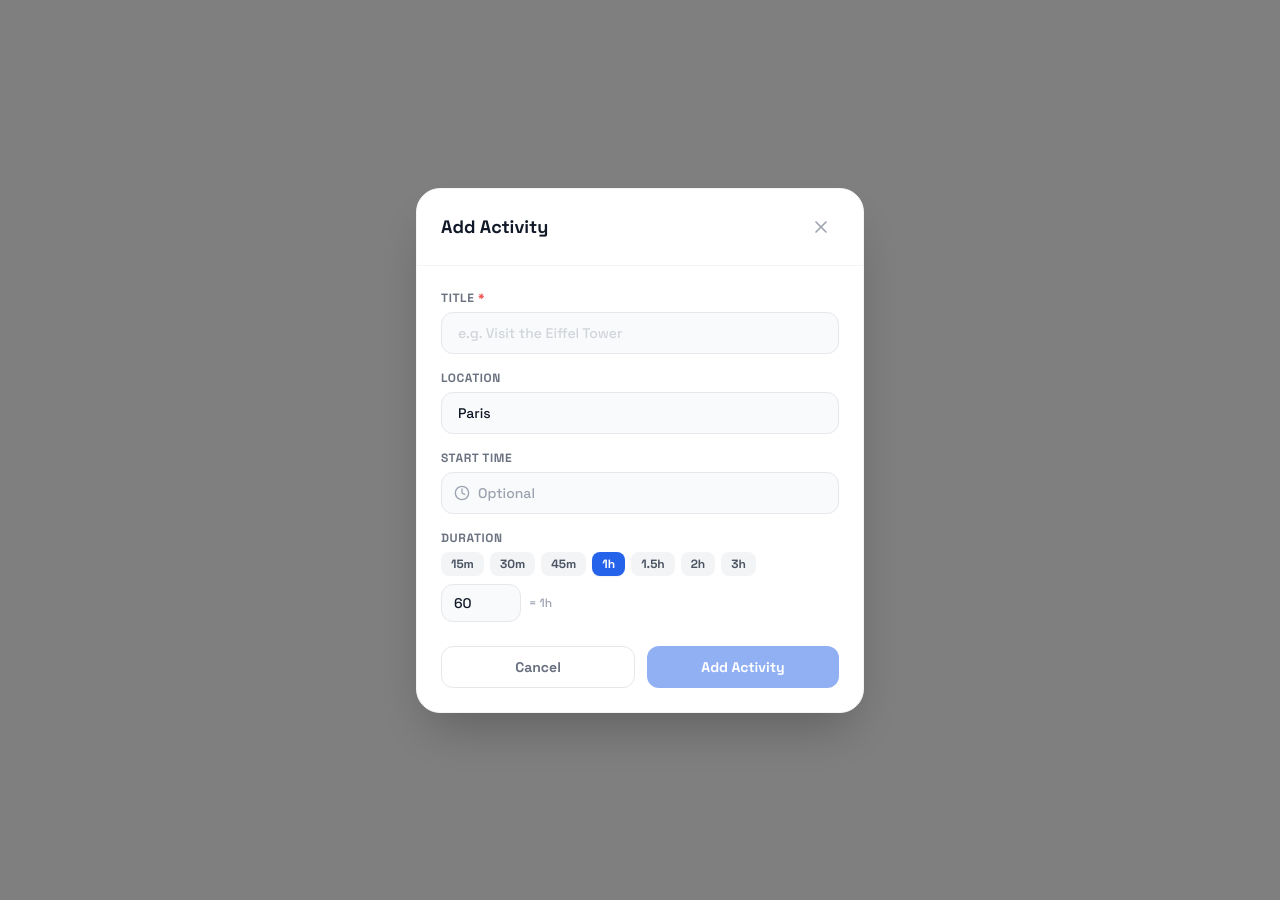
Test: AddActivityModal › detects conflicts and shows conflict screen
Note: Set title and conflicting startTime
In the field labelled "Title *": [640, 332] box [441,312,839,354], type "Conflict Act"
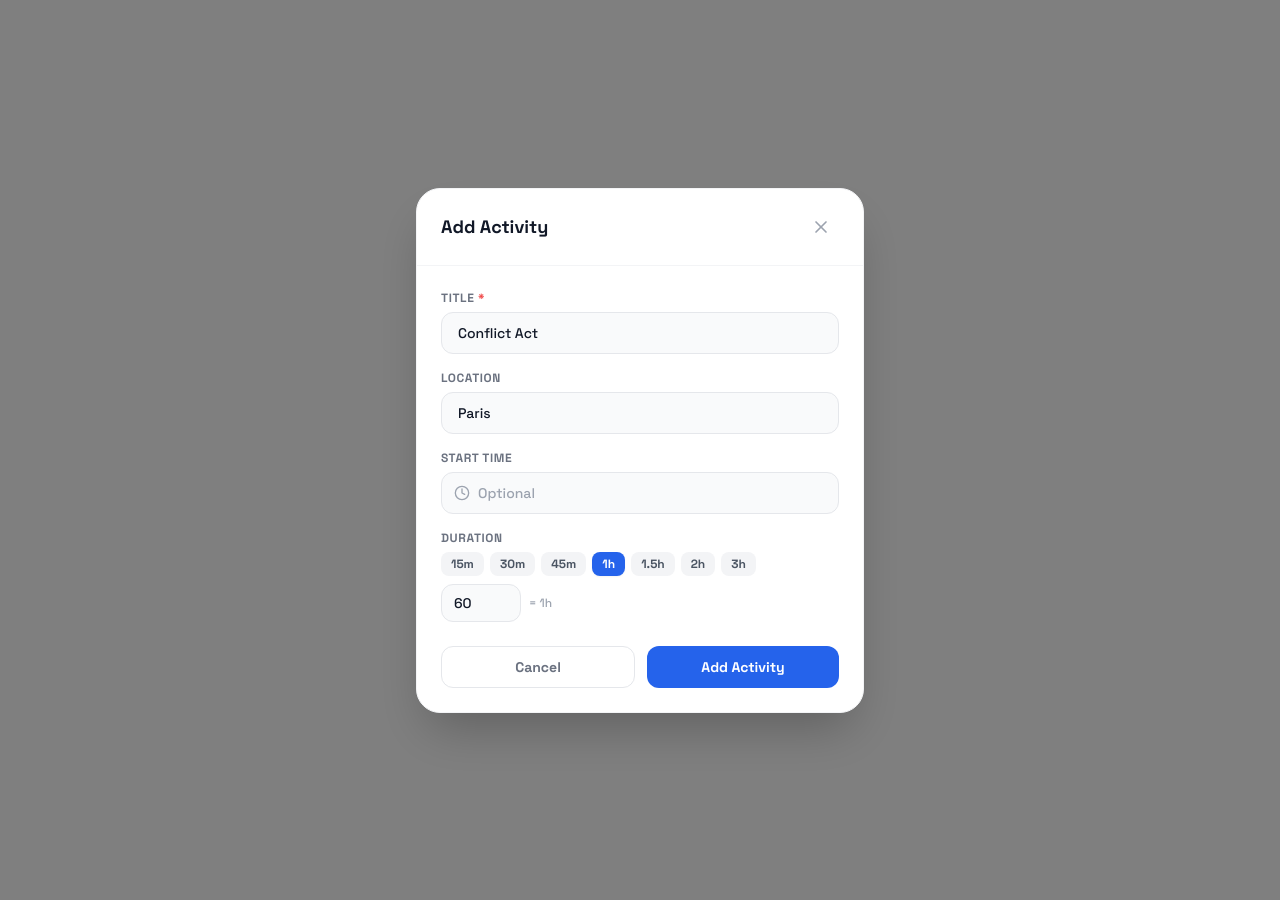
Click the button "Optional": [507, 492] box [441,472,839,514]
(page scrolled)
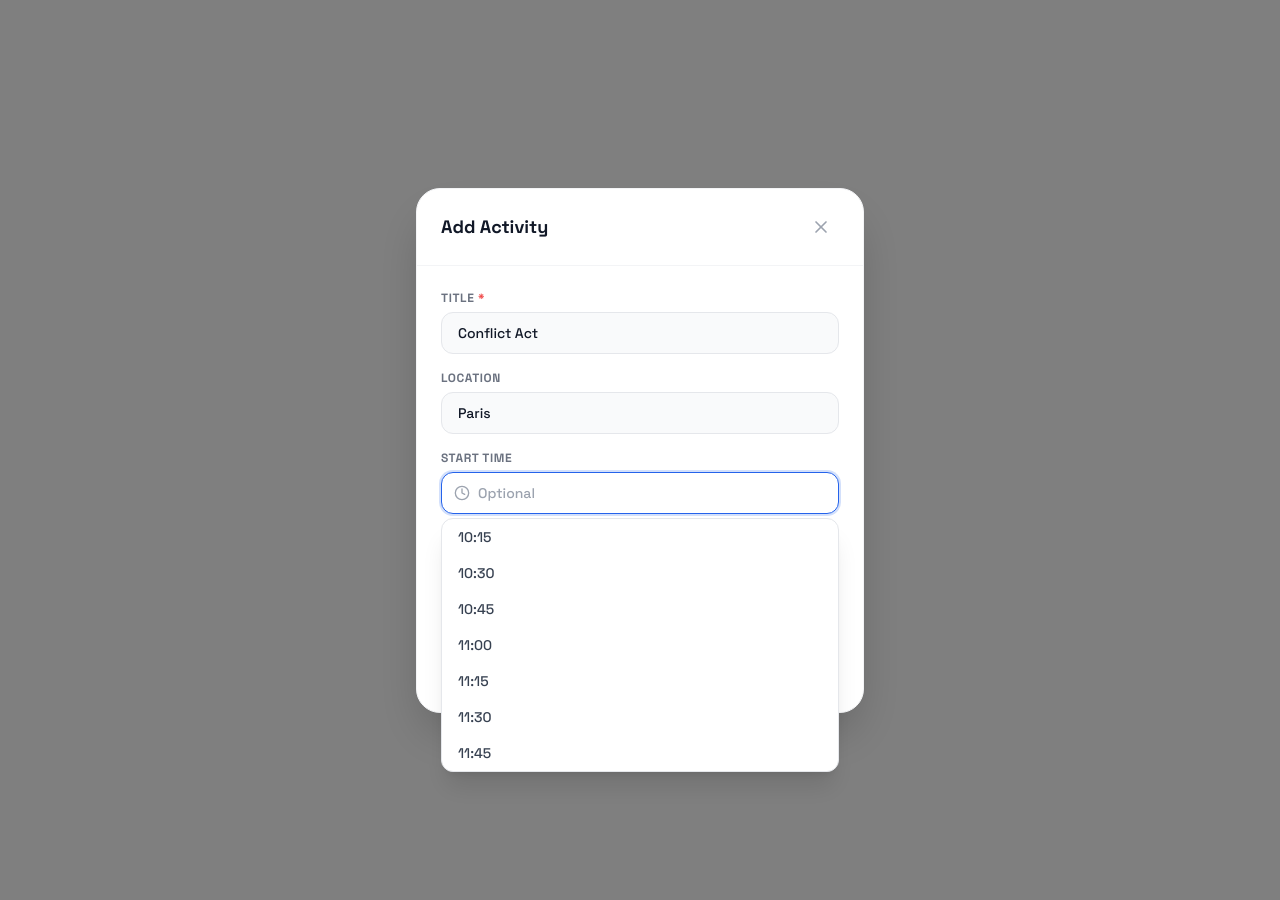
Click the button "11:00": [475, 644] box [442,626,838,662]
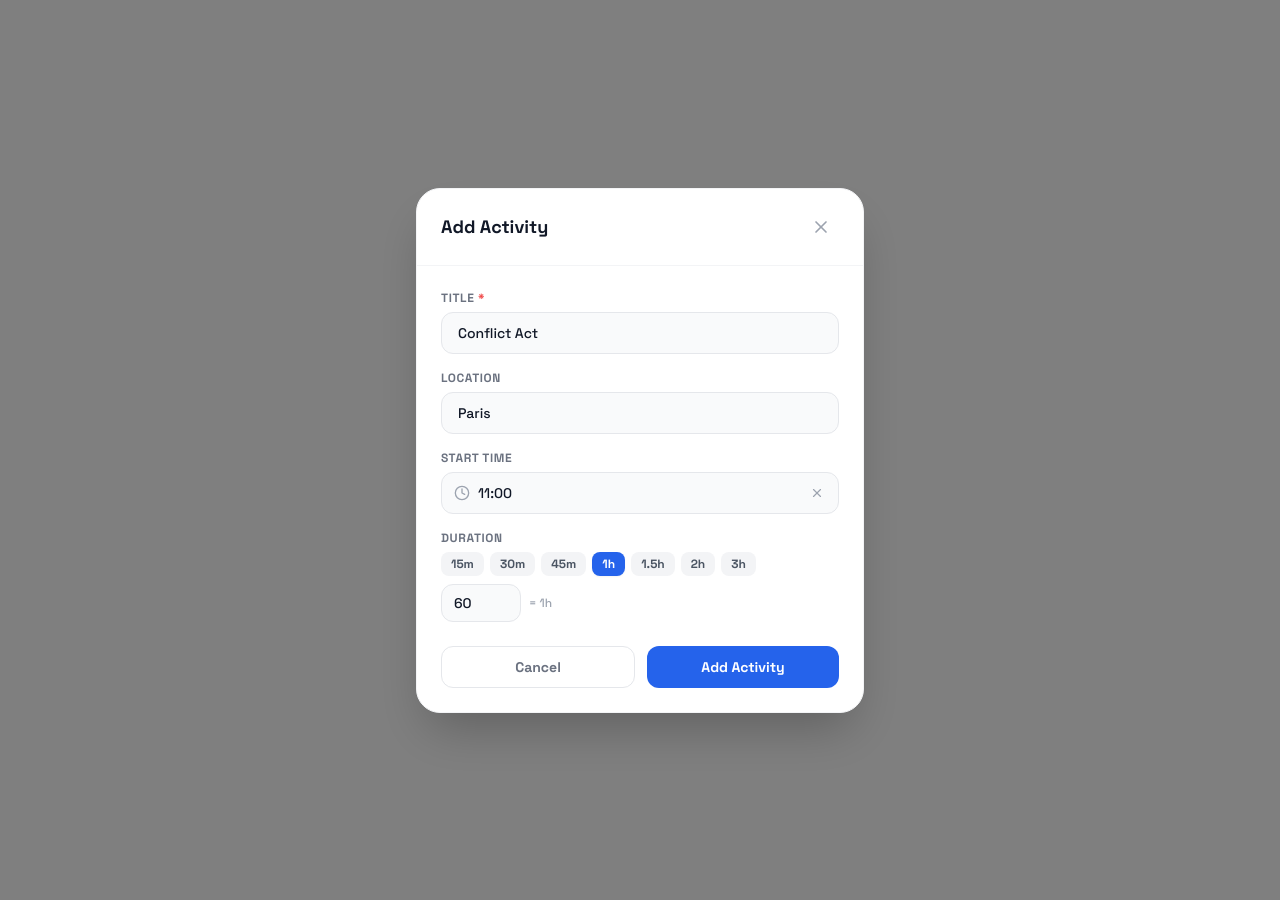
Note: Submit form
Submit the form named "Add Activity", box [417,266,863,712]
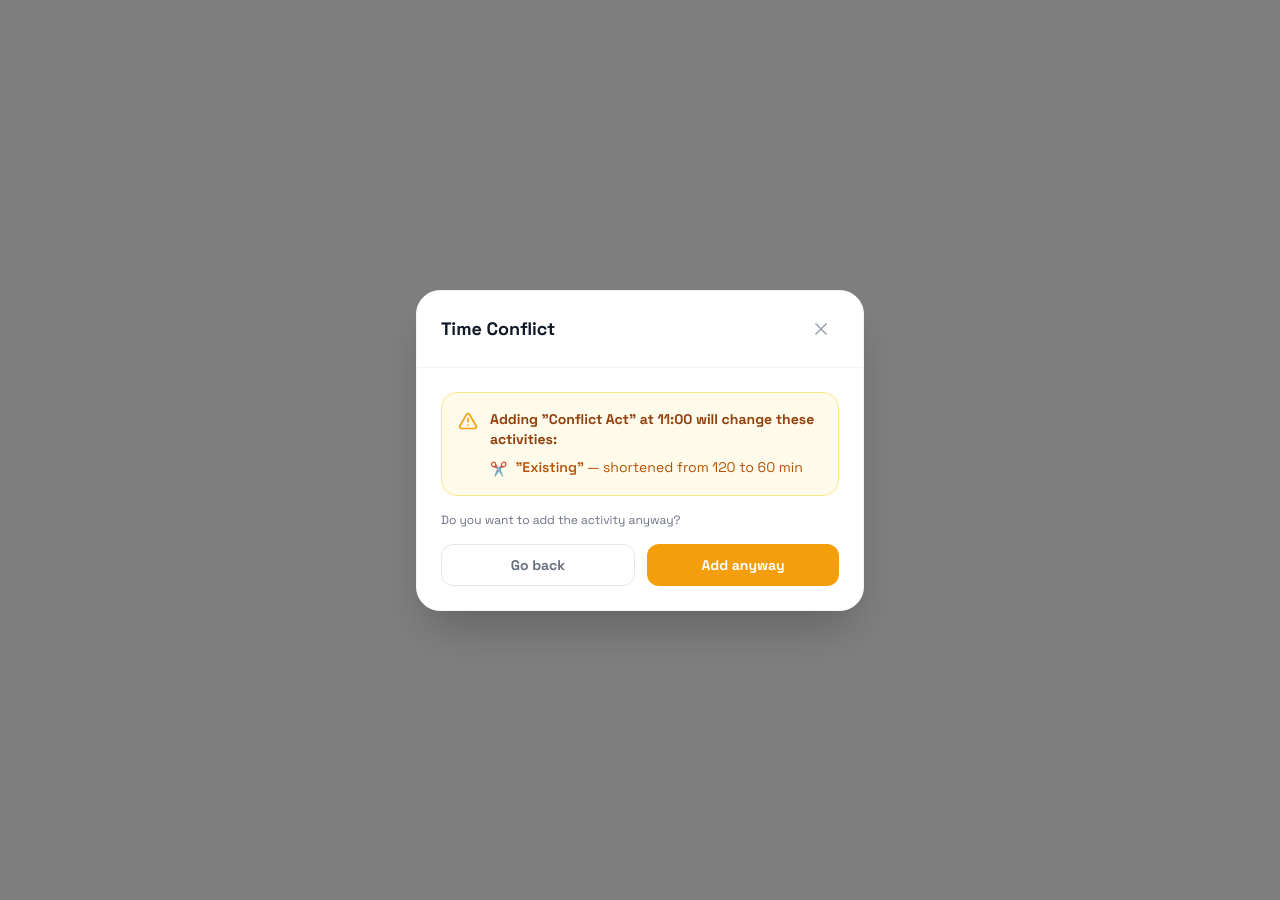
Now the heading "Time Conflict" is shown, box [441,314,555,342]
Now the text "Adding \"Conflict Act\" at 11:00 will change these activities:" is shown, box [490,408,822,448]
Note: Click "Go back"
Click the button "Go back": [538, 564] box [441,544,635,586]
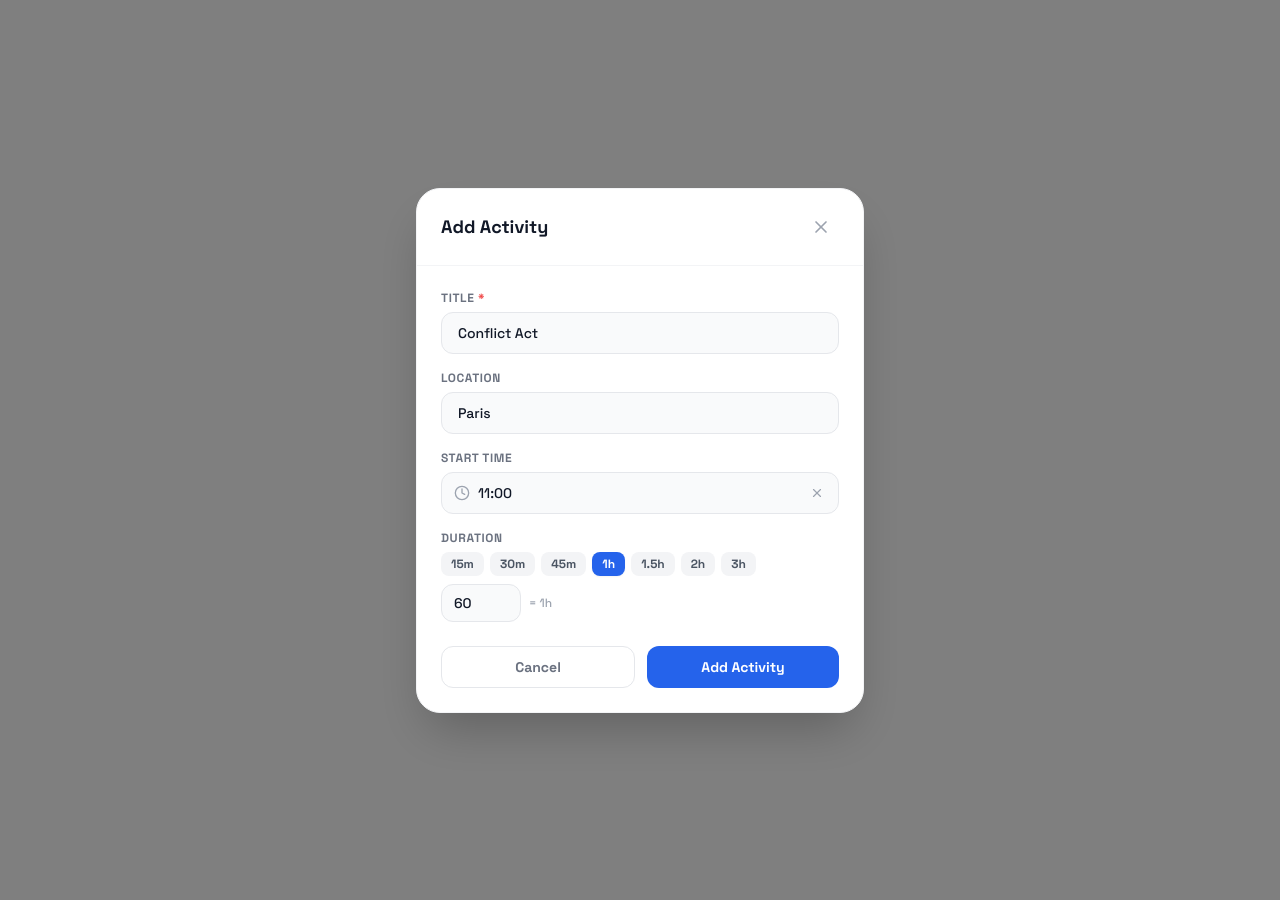
Now the heading "Add Activity" is shown, box [441,212,548,240]
